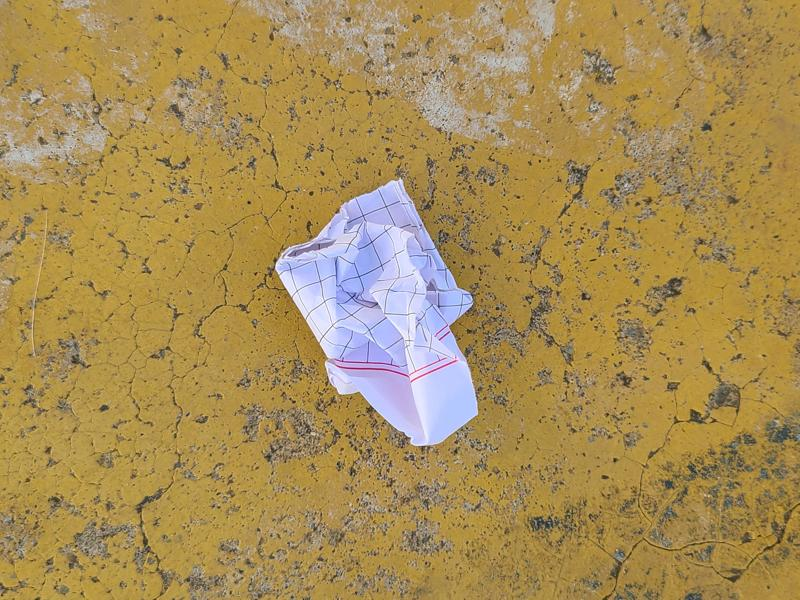papel: (272, 179, 478, 450)
